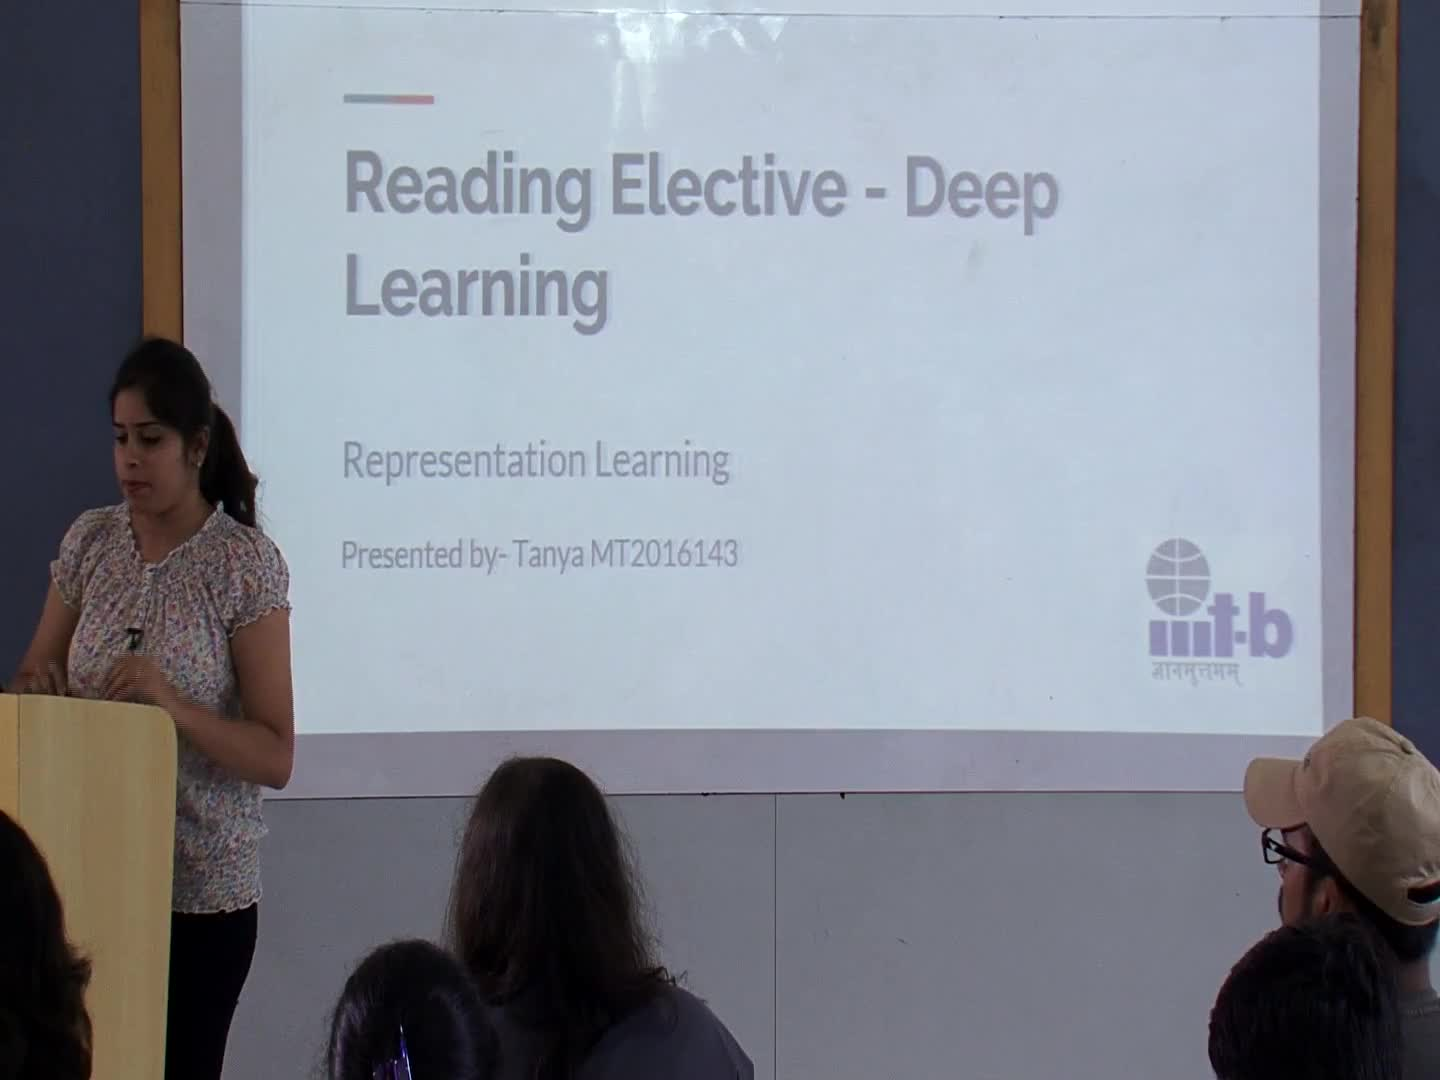slide: (242, 3, 1321, 736)
